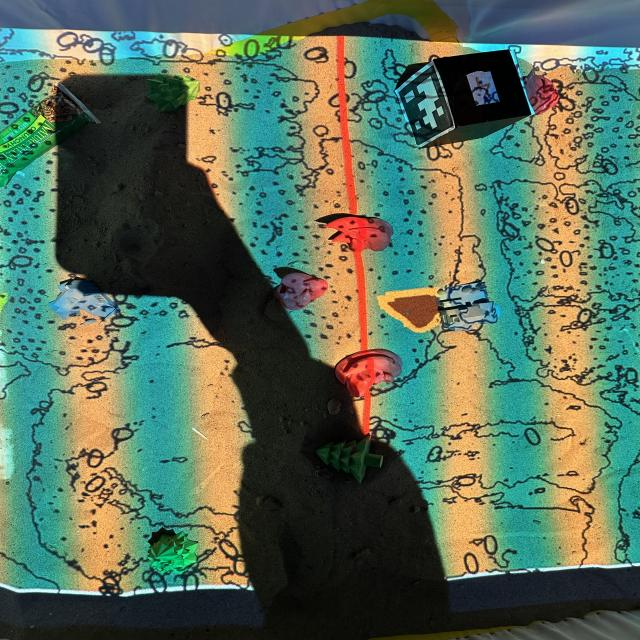fire: (335, 349, 403, 397), (324, 216, 394, 253), (276, 272, 328, 311), (522, 68, 560, 114)
house: (49, 276, 121, 326), (436, 279, 498, 331)
tree: (313, 437, 384, 483), (145, 72, 201, 114), (146, 532, 200, 572)
